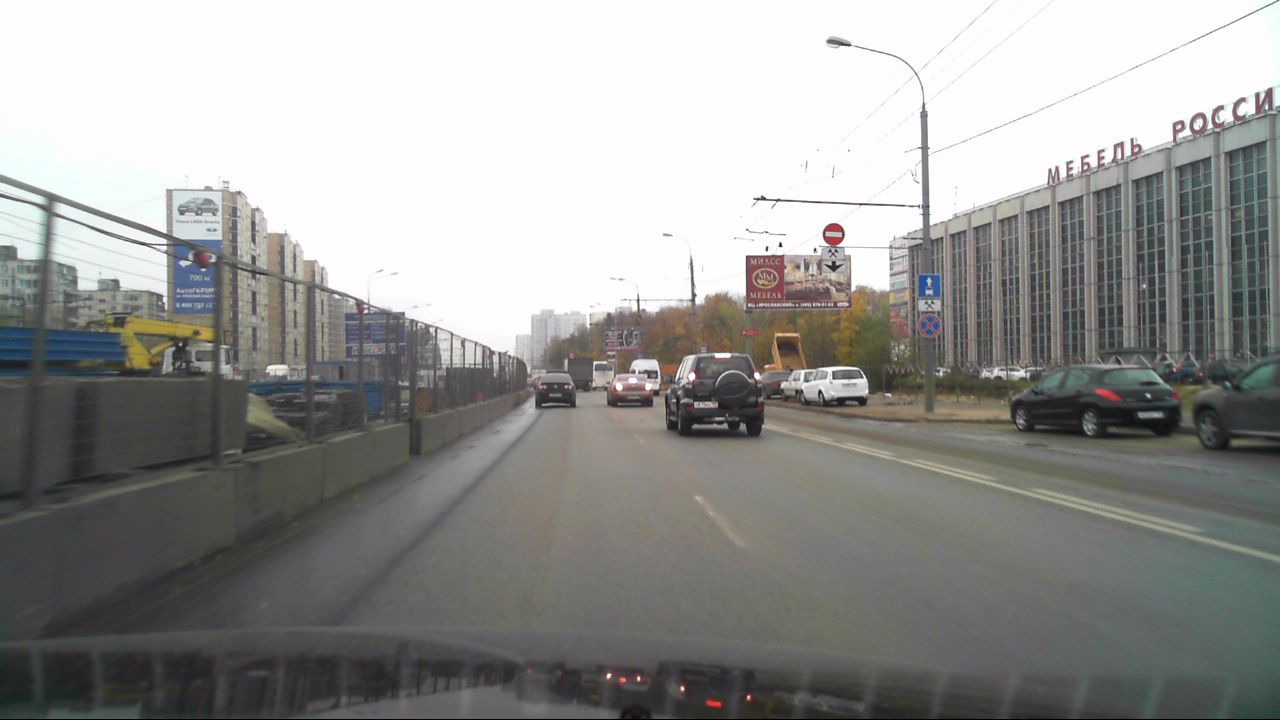No Parking: (917, 313, 943, 338)
